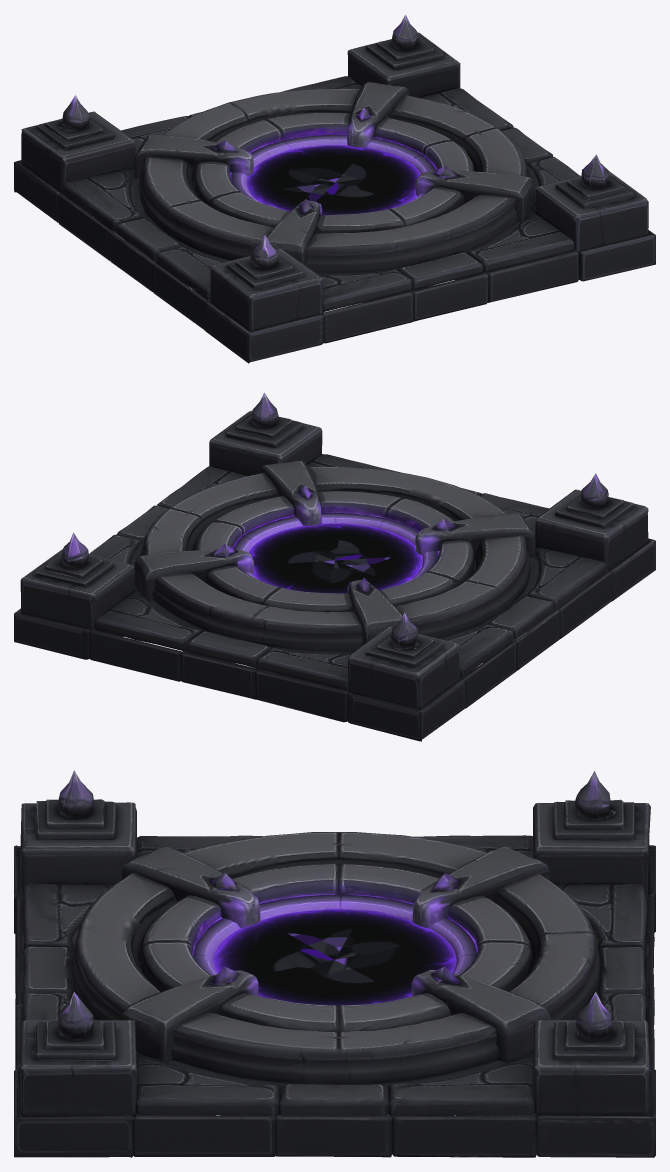
Rendered from void_violet_gateway.glb.
3 renders of one model, top to bottom at view 1: azimuth 30°, elevation 25°; view 2: azimuth 150°, elevation 25°; view 3: azimuth 270°, elevation 25°, orthographic. The views are drawn at different scales.
Visible parts, largest first — view 1: mesh_node; view 2: mesh_node; view 3: mesh_node.
Part boxes in pixels (left/top/right/bottom): mesh_node: left=14, top=14, right=655, bottom=363; mesh_node: left=14, top=392, right=655, bottom=741; mesh_node: left=14, top=770, right=655, bottom=1157.
Bounding box in the file's own units: 1 × 0.2446 × 1.
1 material, 1 textured.
